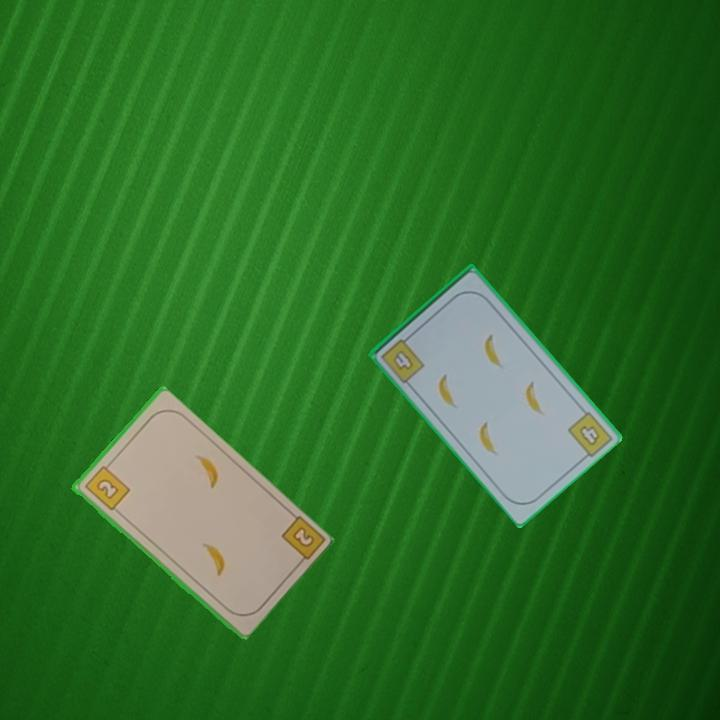2b: (277, 512, 326, 570), (81, 459, 132, 514)
4b: (377, 331, 428, 386), (576, 422, 603, 449)
